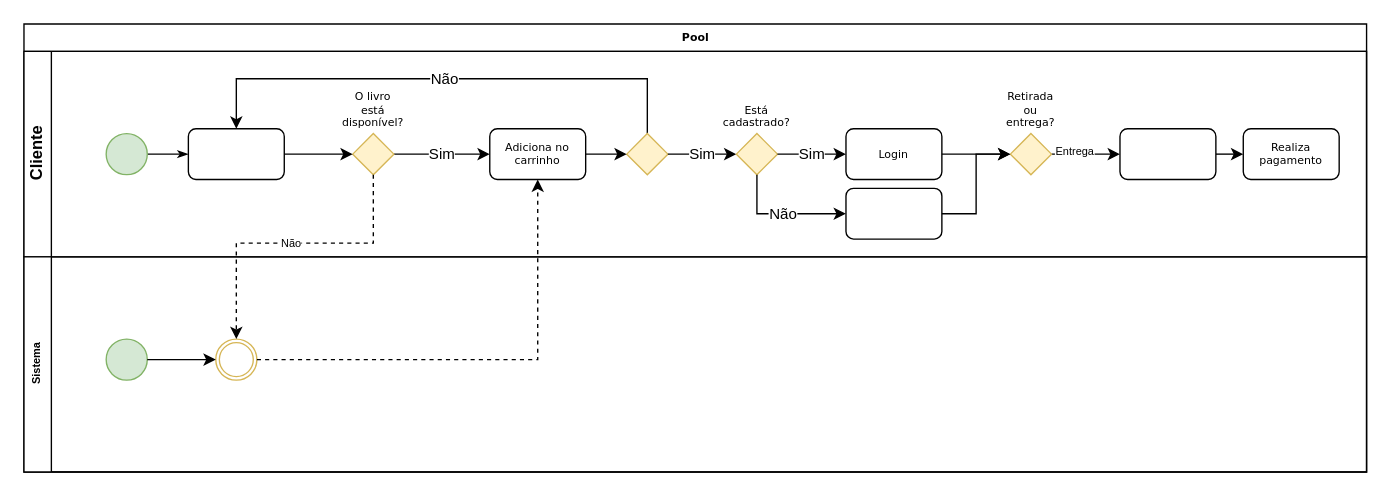
Some shapes in this 1391 by 496 pixel diagram are drawn without their labels. Here are the shapes that lost their labels. From the top down, the centre of each, then its label:
At (235,153): "Visualiza o catálogo".
At (646,153): "Quer finalizar a compra?".
At (1167,153): "Preenche o formulário com endereço".
At (893,213): "Cadastra".
At (235,359): "Reabastecimento do estoque".
